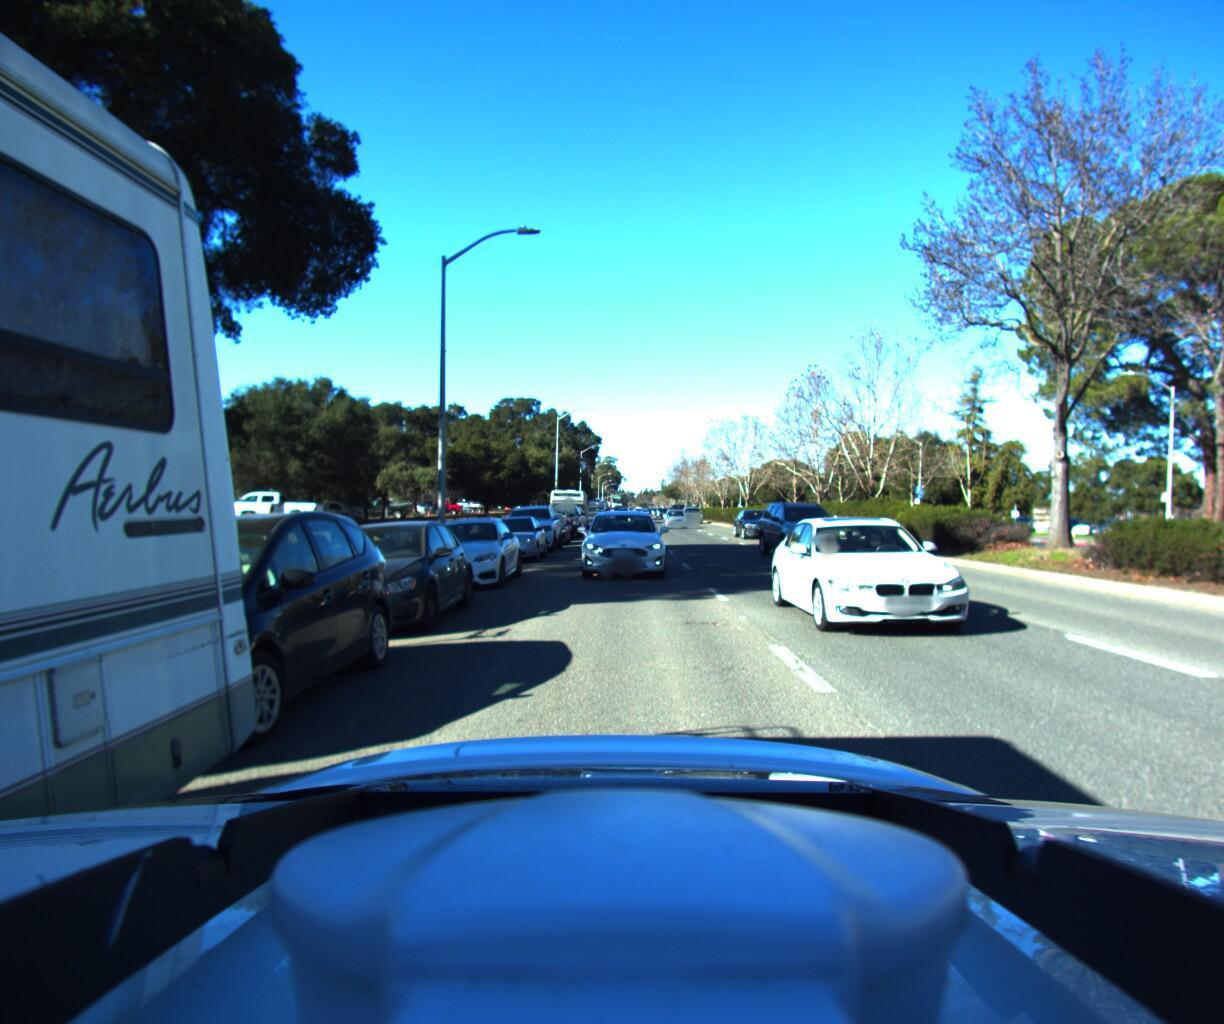car: (778, 503, 1037, 658), (273, 514, 476, 639), (406, 515, 526, 592), (764, 496, 872, 567), (577, 507, 663, 583), (495, 503, 560, 555), (476, 514, 544, 562), (732, 508, 786, 542), (531, 504, 573, 542), (525, 513, 569, 547), (664, 505, 691, 530), (682, 506, 706, 524)
other_vehicle: (544, 488, 587, 533)
